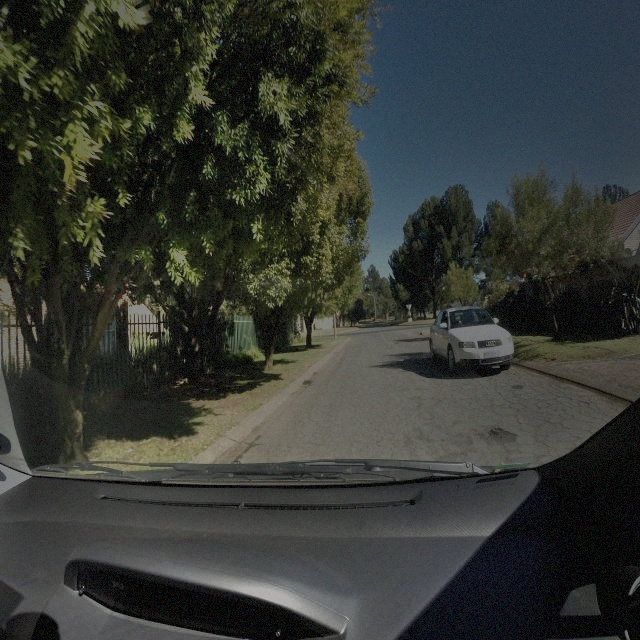pothole: (480, 424, 518, 446), (511, 383, 524, 390)
